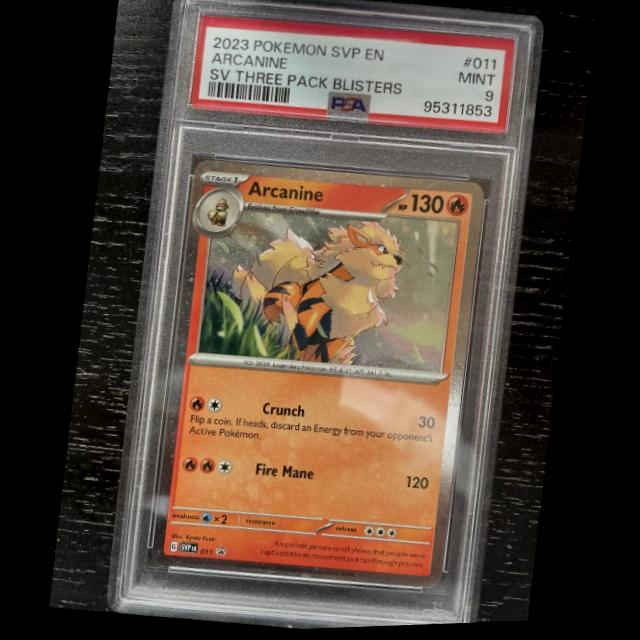card: (148, 158, 485, 593)
psa_label: (187, 14, 516, 136)
psa_slab: (102, 0, 545, 631)
